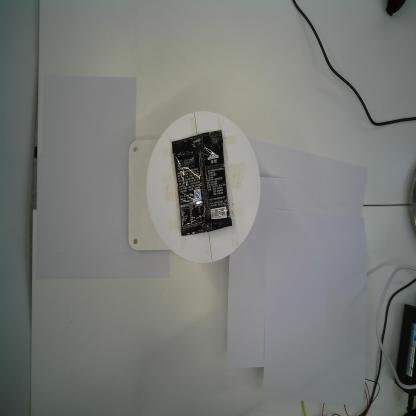Instant Drink: (172, 130, 232, 236)
